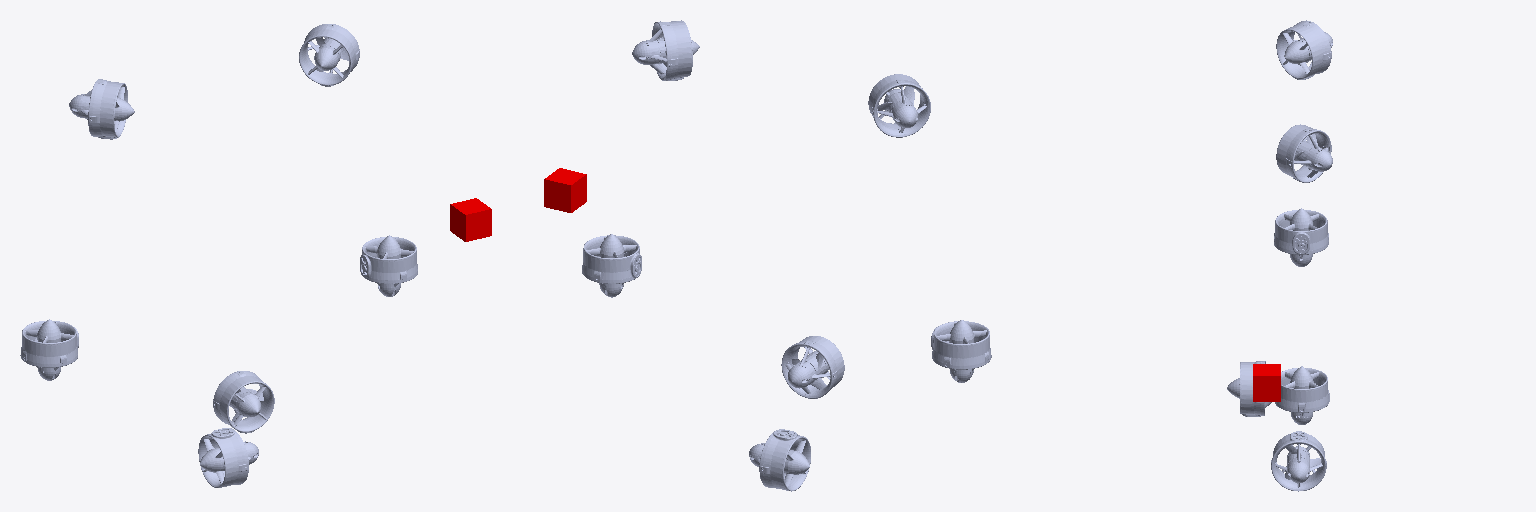
The robot description file, URDF, robot "steelhead_urdf":
<?xml version="1.0" encoding="utf-8"?>
<!-- This URDF was automatically created by SolidWorks to URDF Exporter! Originally created by [author] ([email redacted]) 
     Commit Version: 1.6.0-4-g7f85cfe  Build Version: 1.6.7995.38578
     For more information, please see http://wiki.ros.org/sw_urdf_exporter -->
<robot
  name="steelhead_urdf">
  <link
    name="base_link">
    <inertial>
      <origin
        xyz="0.00395046849323071 0.0499072286696635 -0.0102290259693298"
        rpy="0 0 0" />
      <mass
        value="11.2703688048829" />
      <inertia
        ixx="0.060252345626549"
        ixy="2.1256907295524E-06"
        ixz="-3.72440264216632E-06"
        iyy="0.111348207760062"
        iyz="0.00107999853531635"
        izz="0.127878964636527" />
    </inertial>
    <visual>
      <origin
        xyz="0 0 0"
        rpy="0 0 0" />
      <geometry>
        <mesh
          filename="package://steelhead_urdf/meshes/base_link.STL" />
      </geometry>
      <material
        name="">
        <color
          rgba="0.752941176470588 0.752941176470588 0.752941176470588 1" />
      </material>
    </visual>
    <collision>
      <origin
        xyz="0 0 0"
        rpy="0 0 0" />
      <geometry>
        <mesh
          filename="package://steelhead_urdf/meshes/base_link.STL" />
      </geometry>
    </collision>
  </link>
  <link
    name="thruster-1_link">
    <inertial>
      <origin
        xyz="-4.89081546103422E-07 -0.00413616182974776 0.000574355557575706"
        rpy="0 0 0" />
      <mass
        value="0.186902211484853" />
      <inertia
        ixx="0.000162753956656037"
        ixy="-2.92272870142361E-09"
        ixz="-1.85814585445412E-09"
        iyy="0.000180444513108018"
        iyz="-6.88949524169078E-07"
        izz="0.000158198380408318" />
    </inertial>
    <visual>
      <origin
        xyz="0 0 0"
        rpy="0 0 0" />
      <geometry>
        <mesh
          filename="package://steelhead_urdf/meshes/thruster-1_link.STL" />
      </geometry>
      <material
        name="">
        <color
          rgba="0.792156862745098 0.819607843137255 0.933333333333333 1" />
      </material>
    </visual>
    <collision>
      <origin
        xyz="0 0 0"
        rpy="0 0 0" />
      <geometry>
        <mesh
          filename="package://steelhead_urdf/meshes/thruster-1_link.STL" />
      </geometry>
    </collision>
  </link>
  <joint
    name="thruster-1_joint"
    type="fixed">
    <origin
      xyz="0.00026684981319 -0.084748516609538 -0.219431836509984"
      rpy="3.14159265358979 0 -0.0105672952385601" />
    <parent
      link="base_link" />
    <child
      link="thruster-1_link" />
    <axis
      xyz="0 0 0" />
  </joint>
  <link
    name="thruster-2_link">
    <inertial>
      <origin
        xyz="-4.338686397376E-07 -0.0041360510074997 0.000574375711597741"
        rpy="0 0 0" />
      <mass
        value="0.186899504815562" />
      <inertia
        ixx="0.0001627514234258"
        ixy="-2.82568504025534E-09"
        ixz="-1.68279041179492E-09"
        iyy="0.00018044157763586"
        iyz="-6.88855048599947E-07"
        izz="0.000158196991457279" />
    </inertial>
    <visual>
      <origin
        xyz="0 0 0"
        rpy="0 0 0" />
      <geometry>
        <mesh
          filename="package://steelhead_urdf/meshes/thruster-2_link.STL" />
      </geometry>
      <material
        name="">
        <color
          rgba="0.792156862745098 0.819607843137255 0.933333333333333 1" />
      </material>
    </visual>
    <collision>
      <origin
        xyz="0 0 0"
        rpy="0 0 0" />
      <geometry>
        <mesh
          filename="package://steelhead_urdf/meshes/thruster-2_link.STL" />
      </geometry>
    </collision>
  </link>
  <joint
    name="thruster-2_joint"
    type="fixed">
    <origin
      xyz="-0.210503109396221 0.00386607192717902 0.332368163490018"
      rpy="3.14159265358979 0 0.785066673557305" />
    <parent
      link="base_link" />
    <child
      link="thruster-2_link" />
    <axis
      xyz="0 0 0" />
  </joint>
  <link
    name="thruster-3_link">
    <inertial>
      <origin
        xyz="-4.33848231506939E-07 -0.00413605099529665 0.000574375715362785"
        rpy="0 0 0" />
      <mass
        value="0.186899504873199" />
      <inertia
        ixx="0.000162751425676453"
        ixy="-2.82797964763055E-09"
        ixz="-1.68281476856945E-09"
        iyy="0.000180441578299036"
        iyz="-6.88854971106012E-07"
        izz="0.000158196994569752" />
    </inertial>
    <visual>
      <origin
        xyz="0 0 0"
        rpy="0 0 0" />
      <geometry>
        <mesh
          filename="package://steelhead_urdf/meshes/thruster-3_link.STL" />
      </geometry>
      <material
        name="">
        <color
          rgba="0.792156862745098 0.819607843137255 0.933333333333333 1" />
      </material>
    </visual>
    <collision>
      <origin
        xyz="0 0 0"
        rpy="0 0 0" />
      <geometry>
        <mesh
          filename="package://steelhead_urdf/meshes/thruster-3_link.STL" />
      </geometry>
    </collision>
  </link>
  <joint
    name="thruster-3_joint"
    type="fixed">
    <origin
      xyz="0.213276402010404 0.00372559331954102 0.332368163490019"
      rpy="3.14159265358979 0 -0.785729653237593" />
    <parent
      link="base_link" />
    <child
      link="thruster-3_link" />
    <axis
      xyz="0 0 0" />
  </joint>
  <link
    name="thruster_4_link">
    <inertial>
      <origin
        xyz="-4.8478E-07 0.0041362 -0.00057436"
        rpy="0 0 0" />
      <mass
        value="0.1869" />
      <inertia
        ixx="0.00016275"
        ixy="2.9228E-09"
        ixz="1.8618E-09"
        iyy="0.00018044"
        iyz="-6.8894E-07"
        izz="0.0001582" />
    </inertial>
    <visual>
      <origin
        xyz="0 0 0"
        rpy="0 0 0" />
      <geometry>
        <mesh
          filename="package://steelhead_urdf/meshes/thruster_4_link.STL" />
      </geometry>
      <material
        name="">
        <color
          rgba="0.79216 0.81961 0.93333 1" />
      </material>
    </visual>
    <collision>
      <origin
        xyz="0 0 0"
        rpy="0 0 0" />
      <geometry>
        <mesh
          filename="package://steelhead_urdf/meshes/thruster_4_link.STL" />
      </geometry>
    </collision>
  </link>
  <joint
    name="thruster_4_joint"
    type="fixed">
    <origin
      xyz="0.3284 0.00096401 -0.07017"
      rpy="-1.5708 0 -1.5708" />
    <parent
      link="base_link" />
    <child
      link="thruster_4_link" />
    <axis
      xyz="0 0 0" />
  </joint>
  <link
    name="thruster_5_link">
    <inertial>
      <origin
        xyz="-4.8478E-07 -0.0041362 0.00057436"
        rpy="0 0 0" />
      <mass
        value="0.1869" />
      <inertia
        ixx="0.00016275"
        ixy="-2.9218E-09"
        ixz="-1.8618E-09"
        iyy="0.00018044"
        iyz="-6.8894E-07"
        izz="0.0001582" />
    </inertial>
    <visual>
      <origin
        xyz="0 0 0"
        rpy="0 0 0" />
      <geometry>
        <mesh
          filename="package://steelhead_urdf/meshes/thruster_5_link.STL" />
      </geometry>
      <material
        name="">
        <color
          rgba="0.79216 0.81961 0.93333 1" />
      </material>
    </visual>
    <collision>
      <origin
        xyz="0 0 0"
        rpy="0 0 0" />
      <geometry>
        <mesh
          filename="package://steelhead_urdf/meshes/thruster_5_link.STL" />
      </geometry>
    </collision>
  </link>
  <joint
    name="thruster_5_joint"
    type="fixed">
    <origin
      xyz="-0.32565 0 -0.071134"
      rpy="1.5708 0 1.5708" />
    <parent
      link="base_link" />
    <child
      link="thruster_5_link" />
    <axis
      xyz="0 0 0" />
  </joint>
  <link
    name="thruster-6_link">
    <inertial>
      <origin
        xyz="-4.8478E-07 0.0041362 -0.00057436"
        rpy="0 0 0" />
      <mass
        value="0.1869" />
      <inertia
        ixx="0.00016275"
        ixy="2.9229E-09"
        ixz="1.8617E-09"
        iyy="0.00018044"
        iyz="-6.8894E-07"
        izz="0.0001582" />
    </inertial>
    <visual>
      <origin
        xyz="0 0 0"
        rpy="0 0 0" />
      <geometry>
        <mesh
          filename="package://steelhead_urdf/meshes/thruster-6_link.STL" />
      </geometry>
      <material
        name="">
        <color
          rgba="0.79216 0.81961 0.93333 1" />
      </material>
    </visual>
    <collision>
      <origin
        xyz="0 0 0"
        rpy="0 0 0" />
      <geometry>
        <mesh
          filename="package://steelhead_urdf/meshes/thruster-6_link.STL" />
      </geometry>
    </collision>
  </link>
  <joint
    name="thruster-6_joint"
    type="fixed">
    <origin
      xyz="0.0063667 -0.0045 -0.35743"
      rpy="3.1416 0 1.5708" />
    <parent
      link="base_link" />
    <child
      link="thruster-6_link" />
    <axis
      xyz="0 0 0" />
  </joint>
  <link name="imu_link"/>
  <joint name="imu_joint" type="fixed">
    <parent link="base_link"/>
    <child link="imu_link"/>
    <origin xyz="0 0.25 0" rpy="0 0 0"/> 
  </joint>
  <link name="camera_link">
    <visual>
      <geometry><box size="0.05 0.05 0.05"/></geometry>
      <material name="red"><color rgba="1 0 0 1"/></material>
    </visual>
  </link>

  <joint name="camera_joint" type="fixed">
    <origin xyz="0.45 -0.06 0" rpy="0 0 0" />
    <parent link="base_link" />
    <child link="camera_link" />
  </joint>

  <link name="camera_link_optical" />

  <joint name="camera_optical_joint" type="fixed">
    <origin xyz="0 0 0" rpy="-1.5708 0 -1.5708" />
    <parent link="camera_link" />
    <child link="camera_link_optical" />
  </joint>
</robot>

--- Render facts (derived) ---
The picture shows the robot from 3 angles, left to right: view 1: azimuth 30°, elevation 25°; view 2: azimuth 150°, elevation 25°; view 3: azimuth 270°, elevation 25°; orthographic projection.
Model steelhead_urdf with 10 links and 9 joints (9 fixed), rooted at base_link, posed every joint at zero.
Visible links, largest first — view 1: thruster-1_link, thruster-6_link, thruster-3_link, thruster_5_link, thruster_4_link, thruster-2_link, camera_link; view 2: thruster-1_link, thruster-6_link, thruster-2_link, thruster_5_link, thruster_4_link, thruster-3_link, camera_link; view 3: thruster-2_link, thruster-3_link, thruster_5_link, thruster-6_link, thruster_4_link, thruster-1_link, camera_link.
Link boxes in pixels (box(x1,y1,x2,y2)): thruster-1_link: box(213, 371, 274, 433); thruster-6_link: box(198, 428, 258, 487); thruster-3_link: box(299, 24, 359, 86); thruster_5_link: box(20, 319, 78, 380); thruster_4_link: box(360, 235, 417, 296); thruster-2_link: box(69, 79, 134, 139); camera_link: box(450, 198, 491, 241); thruster-1_link: box(781, 336, 844, 398); thruster-6_link: box(749, 429, 810, 491); thruster-2_link: box(868, 74, 930, 137); thruster_5_link: box(931, 320, 991, 382); thruster_4_link: box(582, 234, 641, 297); thruster-3_link: box(632, 20, 699, 80); camera_link: box(544, 168, 586, 212); thruster-2_link: box(1276, 20, 1332, 79); thruster-3_link: box(1276, 124, 1332, 182); thruster_5_link: box(1274, 208, 1328, 266); thruster-6_link: box(1271, 431, 1326, 491); thruster_4_link: box(1275, 366, 1329, 424); thruster-1_link: box(1227, 361, 1271, 416); camera_link: box(1253, 364, 1280, 401).
Size in the robot's own frame: 0.8489 by 0.1853 by 0.7864 metres.
Meshes: 7 distinct files referenced, 6 mesh visuals loaded (6 binary STL); not drawn: 1 (reference not matched to a file when rendering).